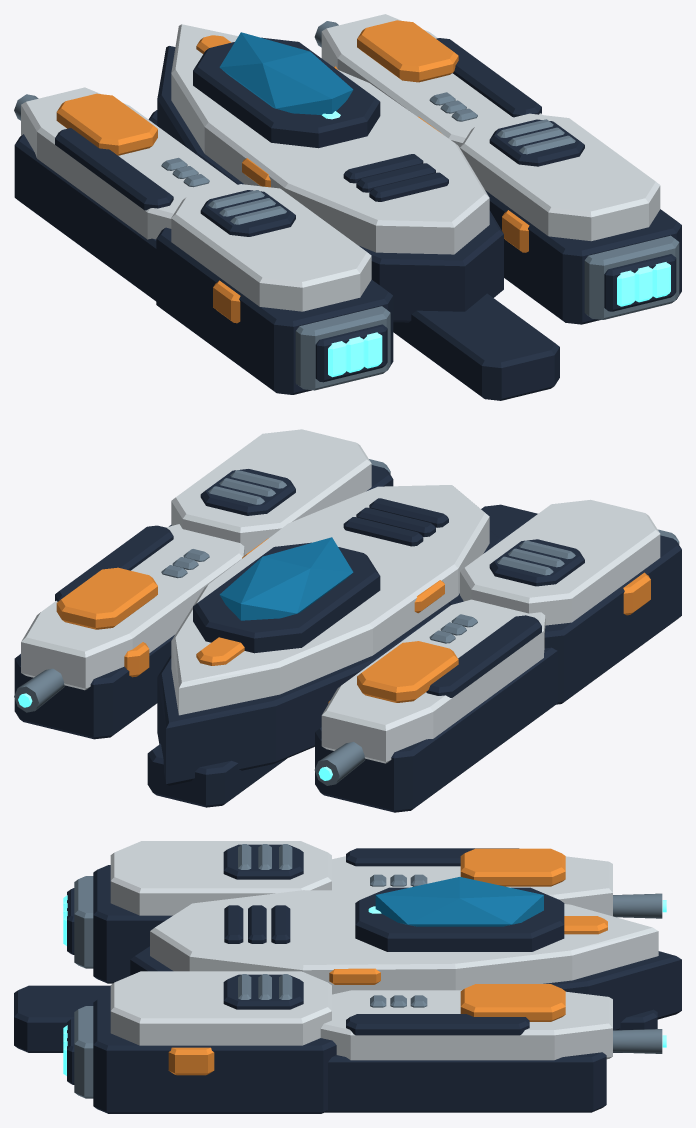
Rendered from modular-interceptor-normal.glb.
3 views of the same model, one above another, from view 1: azimuth 30°, elevation 25°; view 2: azimuth 150°, elevation 25°; view 3: azimuth 270°, elevation 25° (orthographic). The views are drawn at different scales.
Visible parts, largest first — view 1: Core_Armor, Drive_Shell_L, Drive_Shell_R, Drive_Chassis_L, Backbone, Core_Underbody, Weapon_Shell_L, Weapon_Underbody_L, Drive_Chassis_R, Canopy_Gasket, Weapon_Shell_R, Smoked_Canopy (+21 smaller); view 2: Core_Armor, Drive_Shell_L, Core_Underbody, Weapon_Shell_L, Weapon_Underbody_L, Weapon_Shell_R, Drive_Shell_R, Drive_Chassis_L, Canopy_Gasket, Weapon_Underbody_R, Smoked_Canopy, Backbone (+14 smaller); view 3: Core_Armor, Drive_Chassis_R, Weapon_Underbody_R, Drive_Shell_R, Weapon_Shell_R, Drive_Shell_L, Canopy_Gasket, Smoked_Canopy, Core_Underbody, Weapon_Shell_L, Backbone, Drive_Chassis_L (+18 smaller).
Part boxes in pixels (x1,y1,x2,y2): Core_Armor: (171, 24, 489, 254); Drive_Shell_L: (171, 184, 371, 311); Drive_Shell_R: (460, 113, 660, 241); Drive_Chassis_L: (156, 227, 393, 394); Backbone: (148, 110, 559, 400); Core_Underbody: (157, 46, 503, 322); Weapon_Shell_L: (21, 87, 237, 239); Weapon_Underbody_L: (14, 134, 156, 301); Drive_Chassis_R: (485, 190, 681, 324); Canopy_Gasket: (193, 37, 380, 148); Weapon_Shell_R: (321, 14, 542, 147); Smoked_Canopy: (219, 32, 353, 114); Core_Armor: (171, 485, 489, 715); Drive_Shell_L: (460, 499, 660, 625); Core_Underbody: (157, 530, 501, 785); Weapon_Shell_L: (321, 599, 545, 763); Weapon_Underbody_L: (315, 647, 557, 812); Weapon_Shell_R: (21, 524, 244, 690); Drive_Shell_R: (171, 429, 371, 554); Drive_Chassis_L: (449, 535, 681, 704); Canopy_Gasket: (193, 542, 380, 653); Weapon_Underbody_R: (14, 635, 174, 739); Smoked_Canopy: (219, 537, 353, 620); Backbone: (147, 504, 537, 807); Core_Armor: (150, 890, 658, 994); Drive_Chassis_R: (93, 995, 336, 1113); Weapon_Underbody_R: (325, 1052, 606, 1112); Drive_Shell_R: (110, 971, 331, 1045); Weapon_Shell_R: (320, 990, 612, 1060); Drive_Shell_L: (110, 841, 331, 915); Canopy_Gasket: (355, 887, 564, 951); Smoked_Canopy: (375, 877, 543, 926); Core_Underbody: (130, 946, 681, 1030); Weapon_Shell_L: (332, 856, 612, 916); Backbone: (14, 985, 657, 1052); Drive_Chassis_L: (93, 865, 172, 983).
Bounding box in the file's own units: 2.85 × 1.11 × 4.26.
